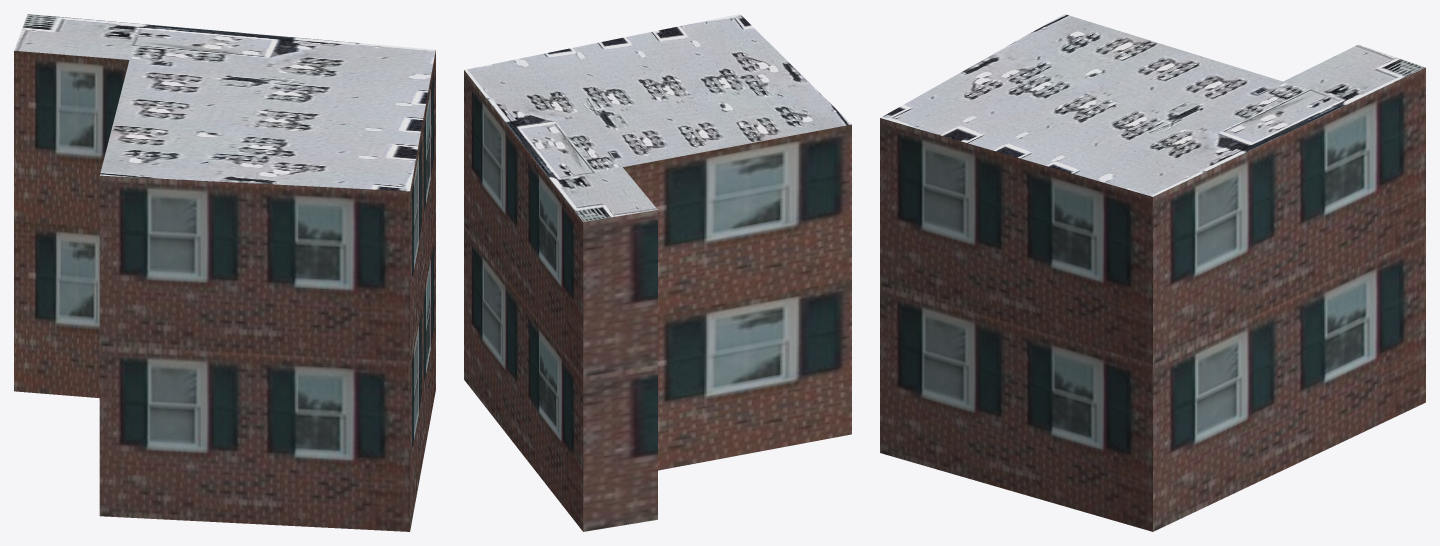
File: ResTex__212.fbx
3 renders of one model, left to right at view 1: azimuth 30°, elevation 25°; view 2: azimuth 150°, elevation 25°; view 3: azimuth 270°, elevation 25°, orthographic. The views are drawn at different scales.
Parts seen in each view (by area): view 1: CityEngineMaterial_14_m, CityEngineMaterial_4_m; view 2: CityEngineMaterial_14_m, CityEngineMaterial_4_m; view 3: CityEngineMaterial_14_m, CityEngineMaterial_4_m.
Part boxes in pixels (x1=…): CityEngineMaterial_14_m: x1=14, y1=50, x2=435, y2=531; CityEngineMaterial_4_m: x1=14, y1=14, x2=435, y2=191; CityEngineMaterial_14_m: x1=464, y1=70, x2=851, y2=531; CityEngineMaterial_4_m: x1=464, y1=14, x2=851, y2=221; CityEngineMaterial_14_m: x1=880, y1=67, x2=1425, y2=531; CityEngineMaterial_4_m: x1=880, y1=14, x2=1425, y2=196.
Size of the model in its own units: 7.02 by 6 by 8.86.
Materials: 2 (2 with a texture image).
